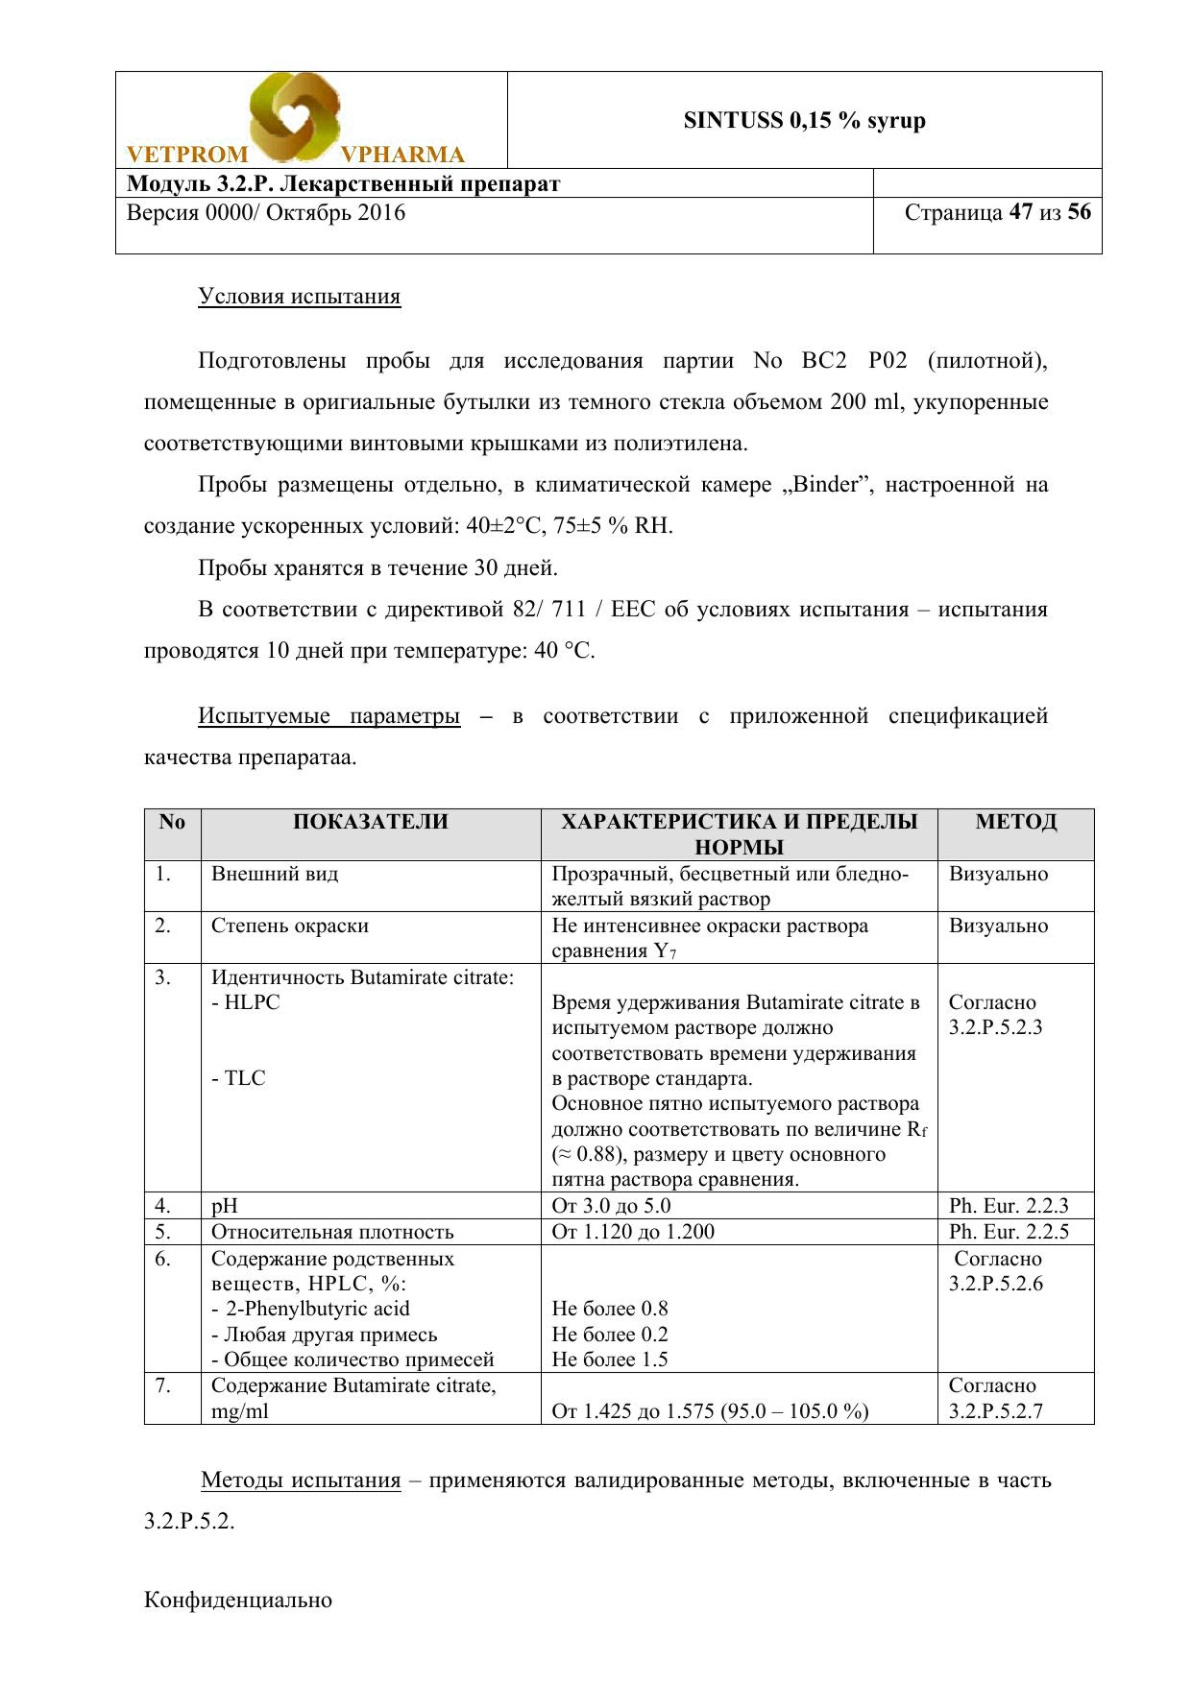full_lined: (143, 806, 1097, 1424)
merged_cells: (114, 70, 1103, 255)
